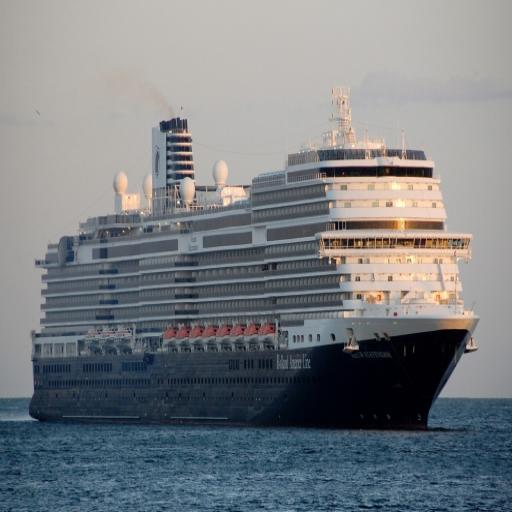cruises: (21, 84, 483, 440)
